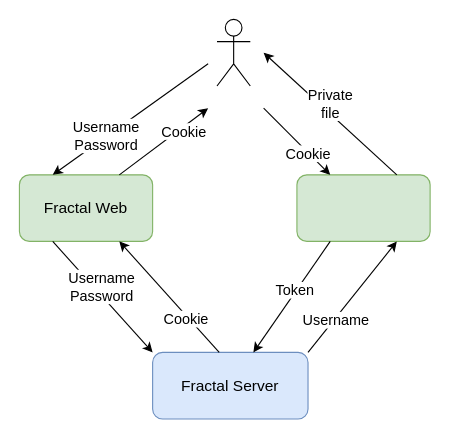
Image size: 450x438. Some labels were removed from this diagram. Each missing label, with the centre of its shape:
"Fractal Data" belongs at [363,207].
"User" belongs at [233,52].
